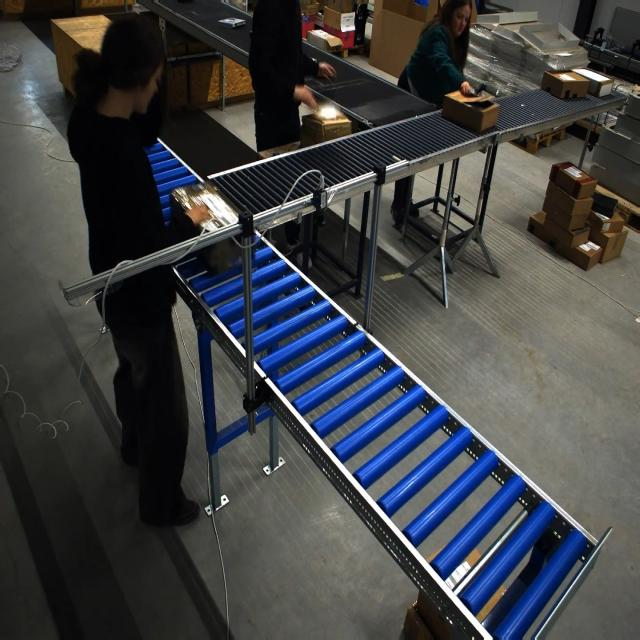box: (167, 174, 260, 247), (435, 80, 509, 140), (293, 97, 352, 157)
